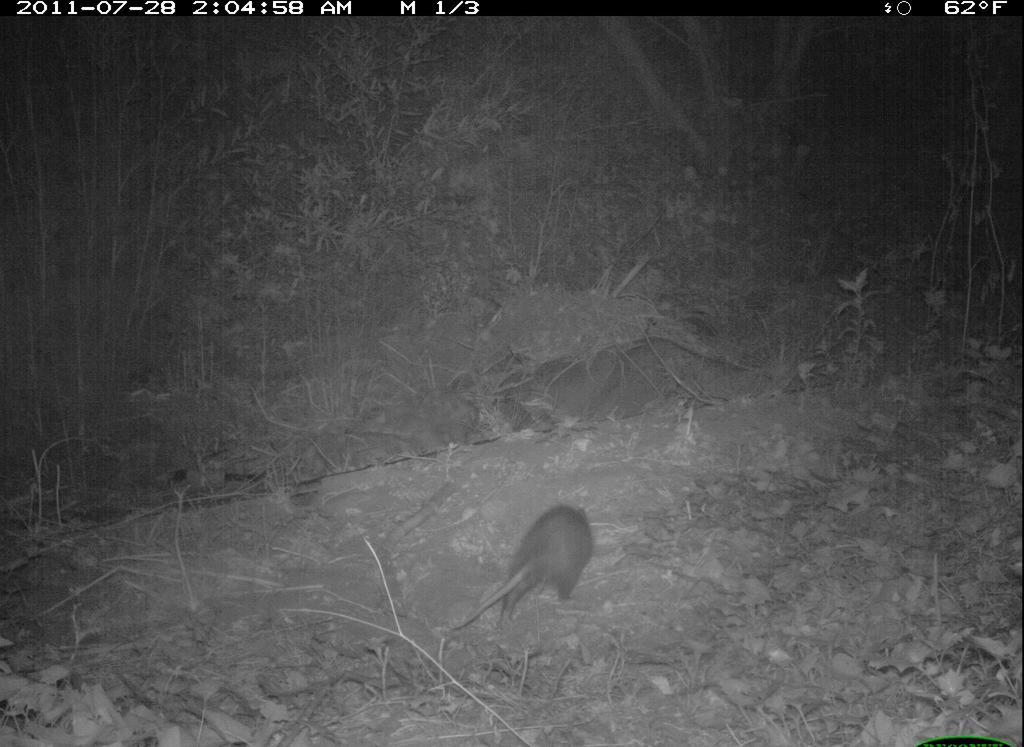opossum: (442, 492, 608, 646)
